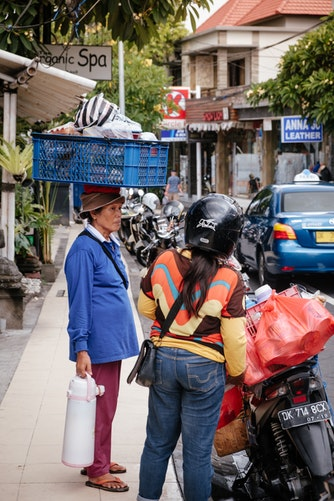helmet: (179, 195, 252, 249)
